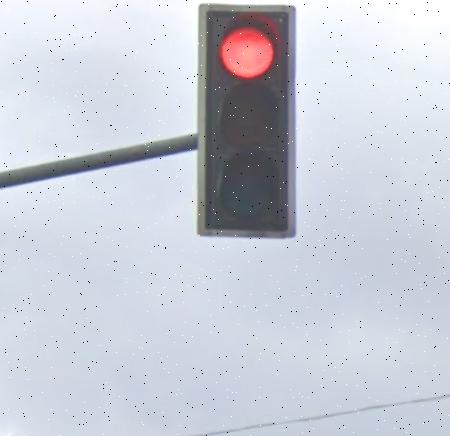redlight: (201, 6, 292, 241)
